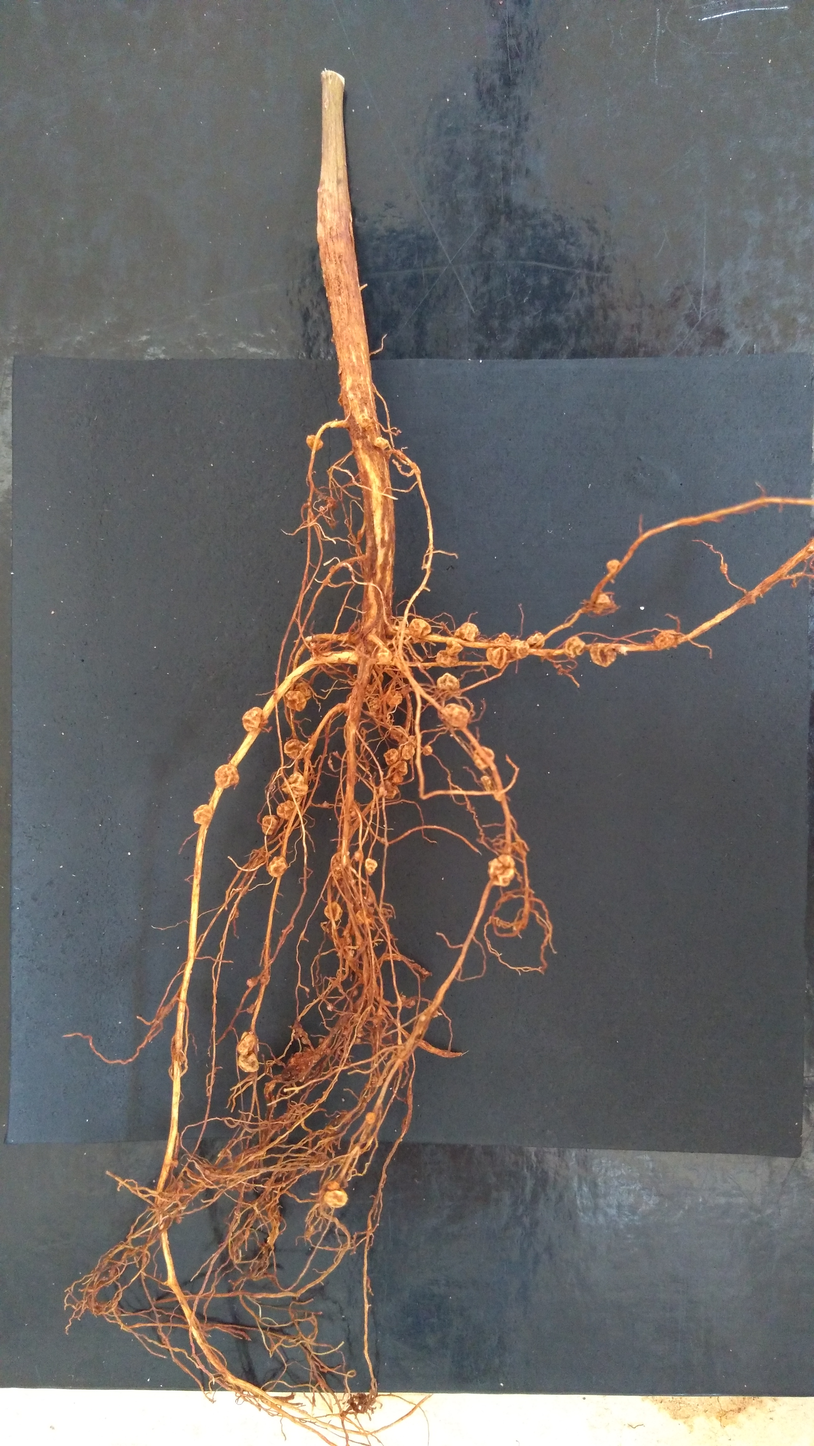nodule: (486, 853, 517, 889), (280, 770, 310, 799), (442, 702, 470, 730), (213, 763, 240, 790), (589, 643, 618, 668), (653, 627, 680, 652), (472, 745, 496, 771), (283, 738, 310, 761), (322, 1188, 349, 1210), (453, 621, 481, 642), (241, 705, 262, 733), (484, 646, 508, 670), (234, 1030, 257, 1055), (236, 1050, 261, 1073), (283, 689, 306, 713), (407, 617, 432, 639), (564, 635, 586, 660), (276, 799, 302, 820), (266, 855, 289, 878), (191, 802, 213, 826), (435, 648, 459, 669), (508, 638, 530, 660), (436, 672, 461, 691), (379, 778, 399, 800), (260, 814, 280, 836), (390, 760, 409, 783), (324, 901, 344, 921), (305, 432, 324, 453), (525, 631, 546, 650), (295, 681, 313, 703), (596, 592, 612, 613), (382, 748, 400, 766), (444, 641, 464, 657), (375, 647, 393, 663), (386, 690, 403, 706), (478, 775, 493, 793), (364, 857, 378, 876), (373, 436, 390, 451), (493, 631, 511, 645), (401, 743, 415, 760), (605, 558, 620, 573), (354, 908, 367, 925), (390, 726, 404, 740), (245, 975, 260, 988), (325, 1179, 341, 1191), (421, 745, 434, 757), (365, 1111, 376, 1124), (354, 848, 363, 863), (323, 1047, 332, 1055), (300, 1036, 308, 1045), (326, 1003, 334, 1012), (355, 1032, 364, 1038), (355, 1038, 362, 1042)
